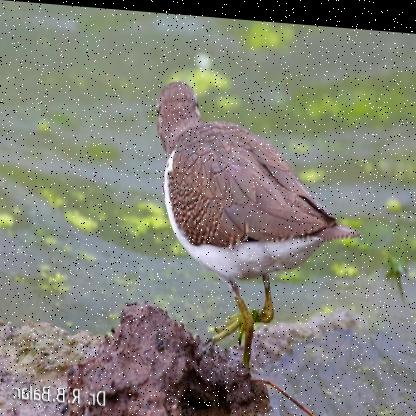Burung: (154, 79, 360, 377)
